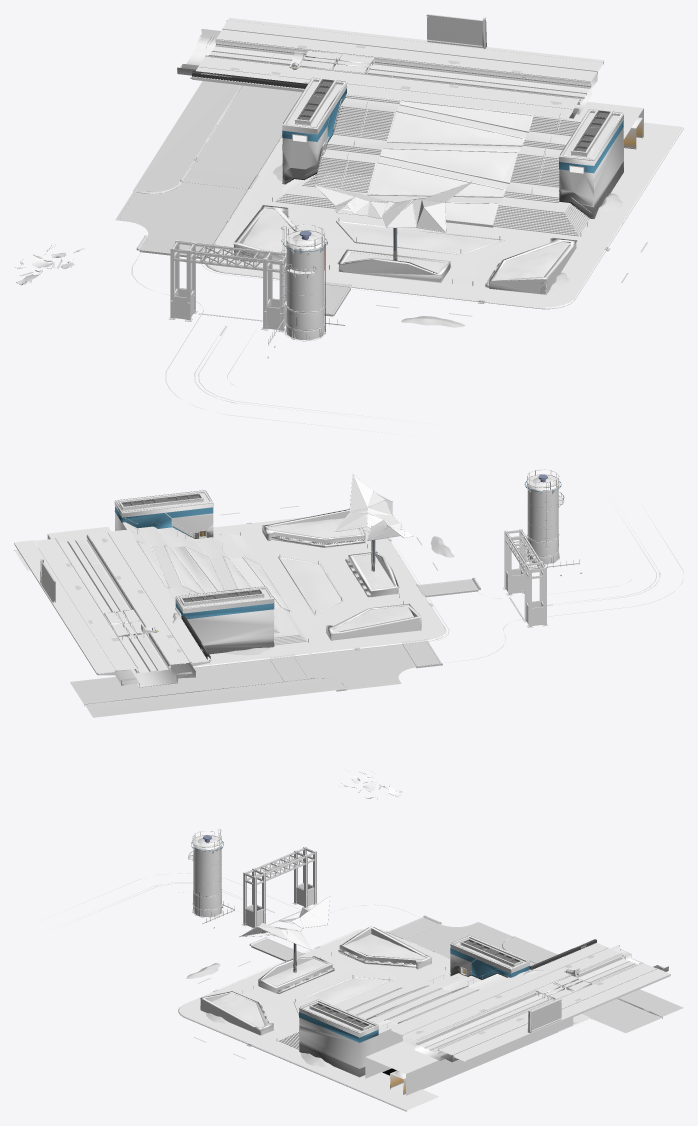
File: cell_84_54.fbx
The picture shows the model from 3 angles, top to bottom: view 1: azimuth 30°, elevation 25°; view 2: azimuth 150°, elevation 25°; view 3: azimuth 270°, elevation 25°; orthographic projection. The views are drawn at different scales.
Visible parts, largest first — view 1: SM_I_RoadFacility_Ground_T_17.mo, SM_I_RoadFacility_Ground_T_18.mo, SM_I_RoadFacility_Ground_T_14.mo, SM_I_RoadFacility_Ground_T_03.mo, SM_H_Industrial_Mechanical_MetalSilo_03d.mo.002, SM_H_WalkwaySystem_MetalSupport_02.mo, SM_Building_Generic_Pillar_256x1024_01.mo.008, SM_I_RoadFacility_Ground_T_14_Decal.mo, SM_I_RoadFacility_Ground_T_04_Decal.mo, SM_H_Fence_SoundproofWall_02.mo.072, SM_I_RoadFacility_Ground_T_07_InterWall_05.mo, SM_I_RoadFacility_Ground_B_01C.mo.003 (+5 smaller); view 2: SM_I_RoadFacility_Ground_T_18.mo, SM_I_RoadFacility_Ground_T_17.mo, SM_I_RoadFacility_Ground_T_14.mo, SM_I_RoadFacility_Ground_T_03.mo, SM_H_Industrial_Mechanical_MetalSilo_03d.mo.002, SM_H_WalkwaySystem_MetalSupport_02.mo, SM_Building_Generic_Pillar_256x1024_01.mo.008, SM_I_RoadFacility_Ground_T_14_Decal.mo, SM_I_RoadFacility_Ground_T_04_Decal.mo, SM_I_RoadFacility_Ground_B_01C.mo.003, SM_RoadFacility_Road_AsphaltRoad_512_01.mo.019, SM_RoadFacility_Road_AsphaltRoad_512_01.mo.018 (+3 smaller); view 3: SM_I_RoadFacility_Ground_T_18.mo, SM_I_RoadFacility_Ground_T_14.mo, SM_I_RoadFacility_Ground_T_17.mo, SM_I_RoadFacility_Ground_T_03.mo, SM_I_RoadFacility_Ground_T_07_InterWall_05.mo, SM_H_WalkwaySystem_MetalSupport_02.mo, SM_H_Industrial_Mechanical_MetalSilo_03d.mo.002, SM_Building_Generic_Pillar_256x1024_01.mo.008, SM_I_RoadFacility_Ground_T_14_Decal.mo, SM_I_RoadFacility_Ground_T_04_Decal.mo, SM_H_Fence_SoundproofWall_02.mo.072, SM_I_RoadFacility_Ground_B_01C.mo.003 (+3 smaller).
Part boxes in pixels (x1=…): SM_I_RoadFacility_Ground_T_17.mo: x1=275, y1=77, x2=623, y2=236; SM_I_RoadFacility_Ground_T_18.mo: x1=204, y1=122, x2=683, y2=309; SM_I_RoadFacility_Ground_T_14.mo: x1=177, y1=18, x2=604, y2=120; SM_I_RoadFacility_Ground_T_03.mo: x1=115, y1=81, x2=302, y2=244; SM_H_Industrial_Mechanical_MetalSilo_03d.mo.002: x1=280, y1=224, x2=327, y2=341; SM_H_WalkwaySystem_MetalSupport_02.mo: x1=168, y1=239, x2=286, y2=332; SM_Building_Generic_Pillar_256x1024_01.mo.008: x1=315, y1=181, x2=472, y2=260; SM_I_RoadFacility_Ground_T_14_Decal.mo: x1=200, y1=29, x2=596, y2=108; SM_I_RoadFacility_Ground_T_04_Decal.mo: x1=205, y1=127, x2=681, y2=307; SM_H_Fence_SoundproofWall_02.mo.072: x1=426, y1=14, x2=486, y2=48; SM_I_RoadFacility_Ground_T_07_InterWall_05.mo: x1=568, y1=101, x2=643, y2=166; SM_I_RoadFacility_Ground_B_01C.mo.003: x1=300, y1=50, x2=374, y2=73; SM_I_RoadFacility_Ground_T_18.mo: x1=14, y1=509, x2=446, y2=667; SM_I_RoadFacility_Ground_T_17.mo: x1=114, y1=490, x2=307, y2=654; SM_I_RoadFacility_Ground_T_14.mo: x1=14, y1=529, x2=210, y2=687; SM_I_RoadFacility_Ground_T_03.mo: x1=70, y1=644, x2=416, y2=717; SM_H_Industrial_Mechanical_MetalSilo_03d.mo.002: x1=524, y1=469, x2=564, y2=565; SM_H_WalkwaySystem_MetalSupport_02.mo: x1=503, y1=529, x2=548, y2=627; SM_Building_Generic_Pillar_256x1024_01.mo.008: x1=334, y1=474, x2=413, y2=571; SM_I_RoadFacility_Ground_T_14_Decal.mo: x1=36, y1=532, x2=189, y2=670; SM_I_RoadFacility_Ground_T_04_Decal.mo: x1=15, y1=517, x2=444, y2=666; SM_I_RoadFacility_Ground_B_01C.mo.003: x1=104, y1=609, x2=148, y2=640; SM_RoadFacility_Road_AsphaltRoad_512_01.mo.019: x1=416, y1=577, x2=480, y2=597; SM_RoadFacility_Road_AsphaltRoad_512_01.mo.018: x1=402, y1=639, x2=442, y2=668; SM_I_RoadFacility_Ground_T_18.mo: x1=178, y1=926, x2=591, y2=1111; SM_I_RoadFacility_Ground_T_14.mo: x1=389, y1=939, x2=670, y2=1062; SM_I_RoadFacility_Ground_T_17.mo: x1=278, y1=935, x2=530, y2=1077; SM_I_RoadFacility_Ground_T_03.mo: x1=405, y1=922, x2=683, y2=1033; SM_I_RoadFacility_Ground_T_07_InterWall_05.mo: x1=365, y1=1017, x2=573, y2=1095; SM_H_WalkwaySystem_MetalSupport_02.mo: x1=241, y1=846, x2=318, y2=928; SM_H_Industrial_Mechanical_MetalSilo_03d.mo.002: x1=188, y1=829, x2=223, y2=917; SM_Building_Generic_Pillar_256x1024_01.mo.008: x1=239, y1=896, x2=330, y2=972; SM_I_RoadFacility_Ground_T_14_Decal.mo: x1=404, y1=948, x2=655, y2=1054; SM_I_RoadFacility_Ground_T_04_Decal.mo: x1=179, y1=929, x2=590, y2=1110; SM_H_Fence_SoundproofWall_02.mo.072: x1=527, y1=999, x2=561, y2=1032; SM_I_RoadFacility_Ground_B_01C.mo.003: x1=535, y1=975, x2=591, y2=1000.
Size of the model in its own units: 120 by 36.67 by 142.
